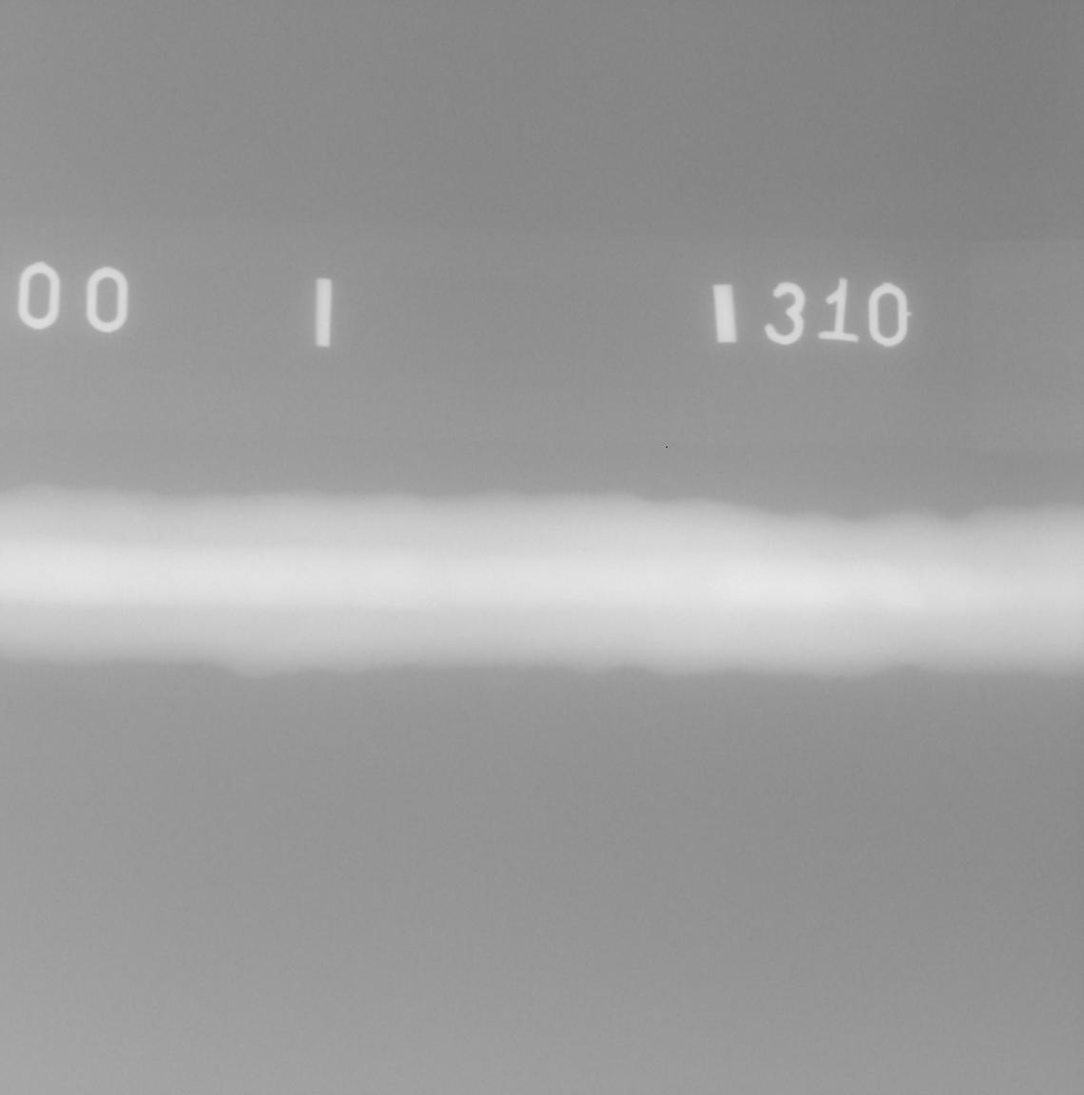Pore/Porosity: (748, 623, 754, 628)
